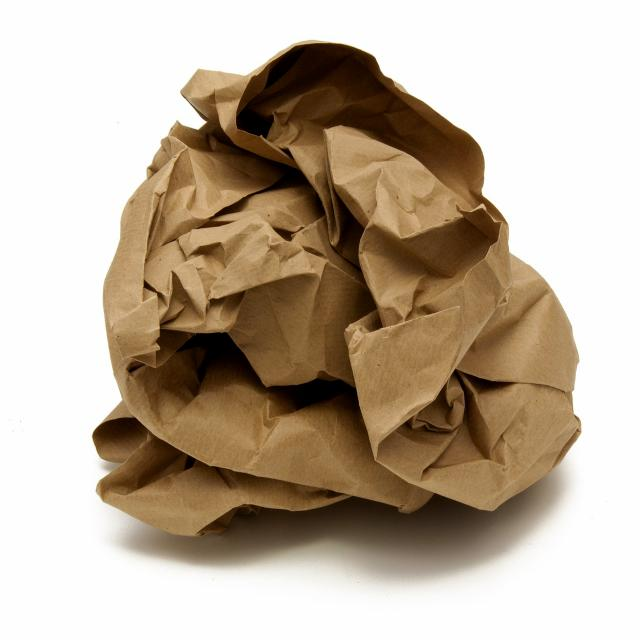Paper: (99, 50, 576, 514)
